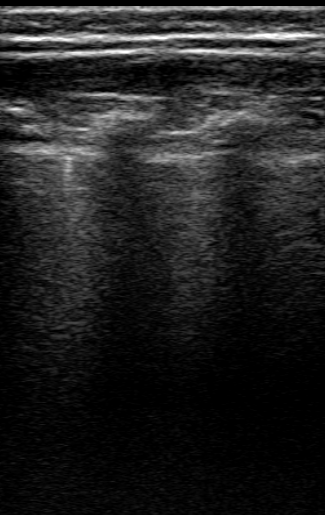irrelevant: (1, 1, 325, 52)
